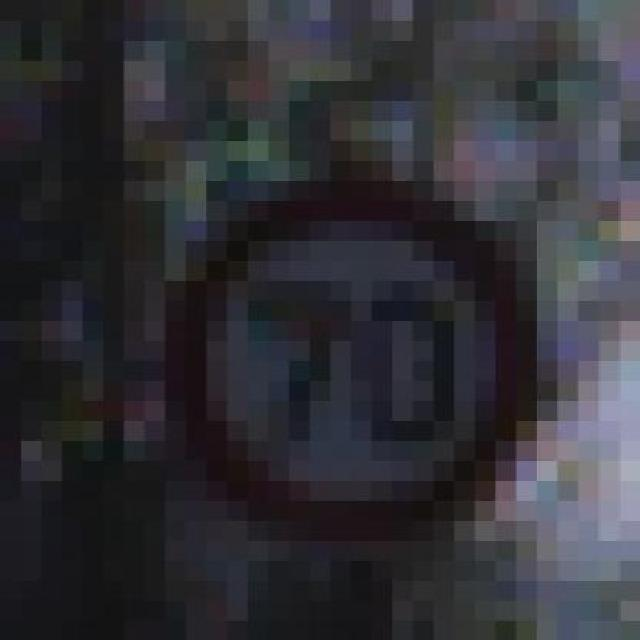forb_speed_over_70: (168, 176, 529, 532)
